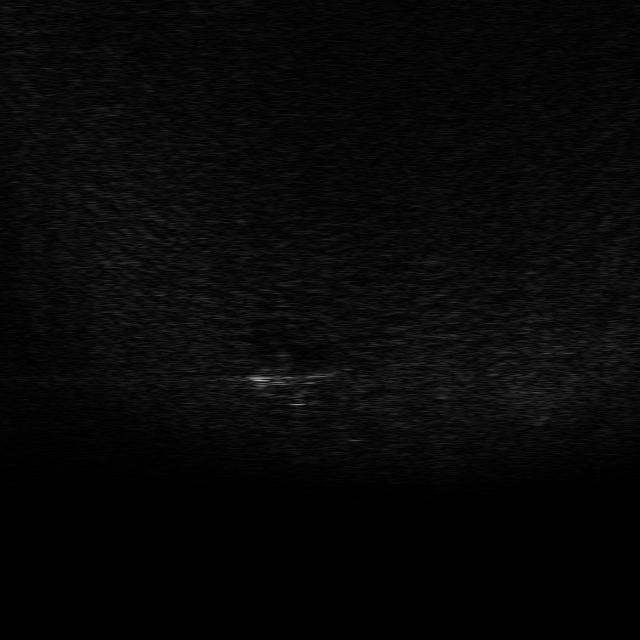plane: (249, 351, 340, 407)
